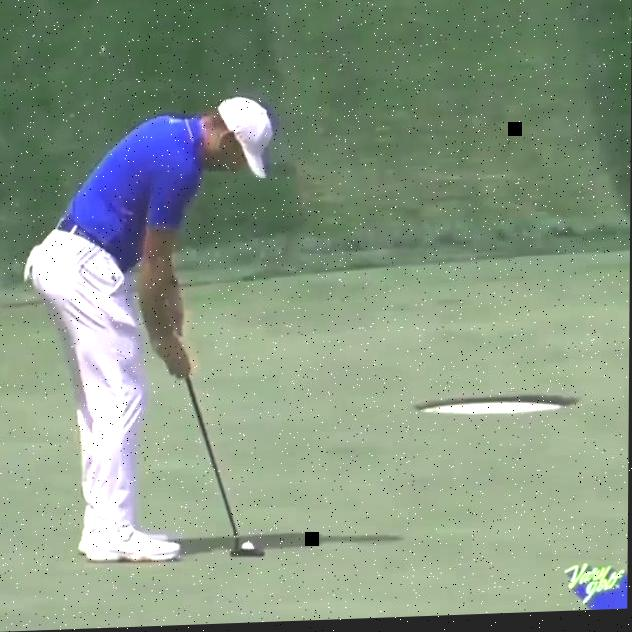ClubHead: (231, 548, 265, 560)
GolfBall: (242, 542, 255, 552)
